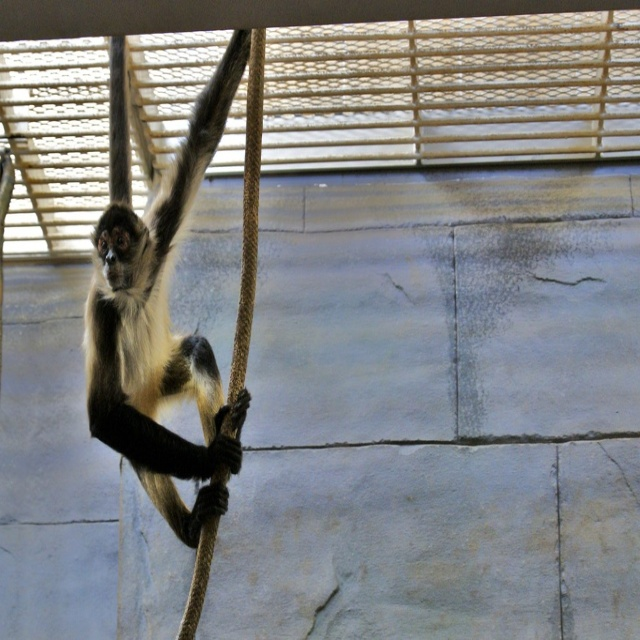Monkey: (80, 74, 251, 573)
